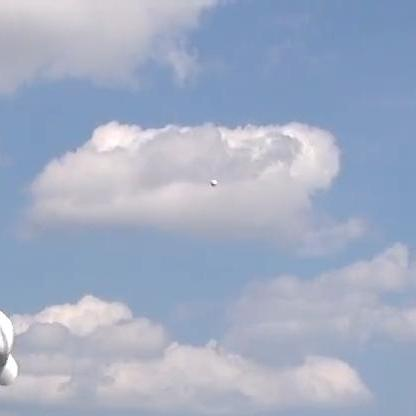golfball: (208, 177, 216, 185)
